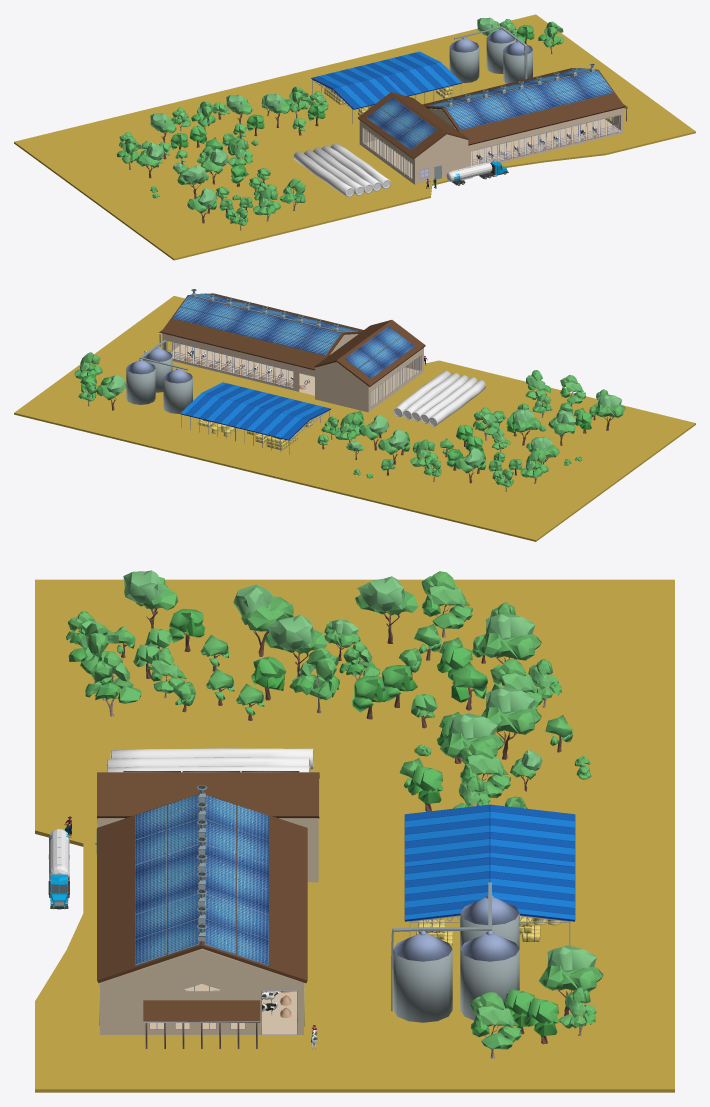
Rendered from area1.glb.
The picture shows the model from 3 angles, top to bottom: view 1: azimuth 30°, elevation 25°; view 2: azimuth 150°, elevation 25°; view 3: azimuth 270°, elevation 25°; orthographic projection. The views are drawn at different scales.
Parts seen in each view (by area): view 1: Cube, solar_panel.006, solar_panel.012, hangar_009.003, barn screen1, solar_panel.011, Cube.004, Cube.001, Cube.003, truck_011.001, BezierCurve.005, BezierCurve.002 (+17 smaller); view 2: Cube, solar_panel.006, hangar_009.003, solar_panel.012, barn screen1, solar_panel.011, Cube.003, Cube.004, BezierCurve.005, Cube.001, tree_002.051, tree_002.048 (+17 smaller); view 3: Cube, solar_panel.012, hangar_009.003, solar_panel.011, barn screen1, solar_panel.006, Cube.001, Cube.003, solar_panel.003, tree_002.017, tree_002.020, tree_002.015 (+29 smaller).
Boxes of the visible parts, box(x1,y1,x2,y2) form: Cube: box(14, 14, 695, 260); solar_panel.006: box(358, 92, 468, 184); solar_panel.012: box(428, 68, 613, 130); hangar_009.003: box(311, 51, 462, 123); barn screen1: box(428, 108, 623, 166); solar_panel.011: box(422, 68, 624, 145); Cube.004: box(449, 37, 479, 83); Cube.001: box(503, 40, 532, 83); Cube.003: box(486, 28, 516, 73); truck_011.001: box(446, 161, 508, 185); BezierCurve.005: box(293, 151, 354, 196); BezierCurve.002: box(321, 145, 381, 191); Cube: box(14, 296, 695, 541); solar_panel.006: box(314, 320, 425, 412); hangar_009.003: box(180, 382, 330, 454); solar_panel.012: box(172, 293, 358, 355); barn screen1: box(162, 333, 357, 395); solar_panel.011: box(161, 293, 363, 370); Cube.003: box(126, 359, 155, 404); Cube.004: box(163, 368, 192, 413); BezierCurve.005: box(428, 380, 485, 426); Cube.001: box(143, 347, 172, 392); tree_002.051: box(594, 394, 625, 430); tree_002.048: box(512, 409, 541, 445); Cube: box(35, 579, 674, 1092); solar_panel.012: box(135, 794, 268, 965); hangar_009.003: box(404, 804, 575, 945); solar_panel.011: box(97, 794, 307, 983); barn screen1: box(99, 949, 304, 1034); solar_panel.006: box(97, 771, 319, 882); Cube.001: box(393, 931, 452, 1022); Cube.003: box(460, 931, 519, 1020); solar_panel.003: box(143, 1000, 260, 1048); tree_002.017: box(477, 613, 541, 685); tree_002.020: box(539, 945, 603, 1015); tree_002.015: box(481, 687, 541, 759).
Bounding box in the file's own units: 168 × 16.27 × 88.91.
32 materials, 16 textured.
